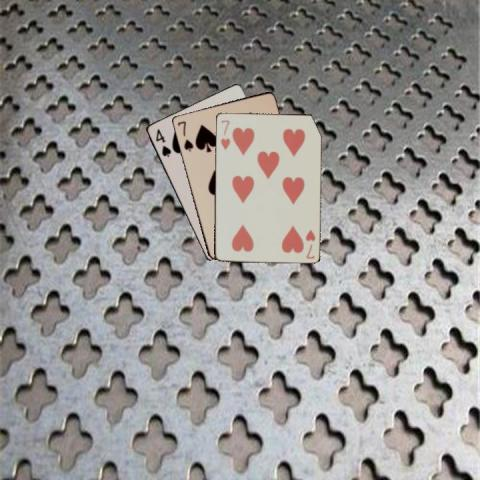4s: (153, 126, 172, 159)
7h: (218, 118, 232, 152), (303, 226, 316, 260)
7s: (175, 118, 194, 153)
